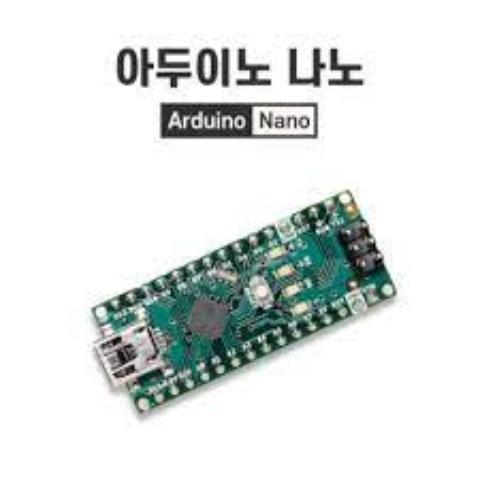Arduino-Nano: (76, 177, 406, 426)
